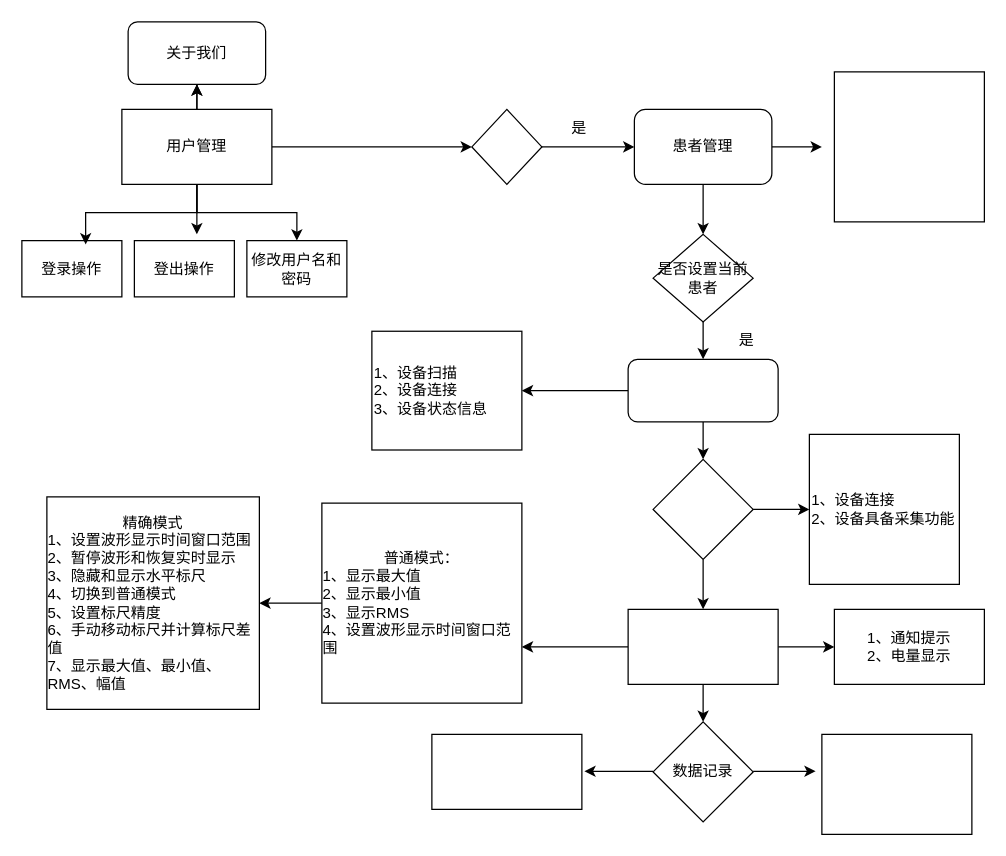
This 1006x856 diagram has some shape labels left out. The box of each missing label's shape, as (x1, y1, x2, y2) in pixels:
1、开始记录 2、停止记录 3、自定义记录名称: (431, 733, 582, 809)
1、新建 2、删除 3、修改 4、指定当前患者: (833, 71, 984, 222)
信号采集: (627, 608, 778, 684)
信息是否合法: (471, 108, 542, 184)
数据管理 1、数据删除 2、数据查询 3、数据重命名 4、导出: (821, 733, 972, 834)
系统配置: (627, 358, 778, 422)
采集条件: (652, 458, 753, 559)
